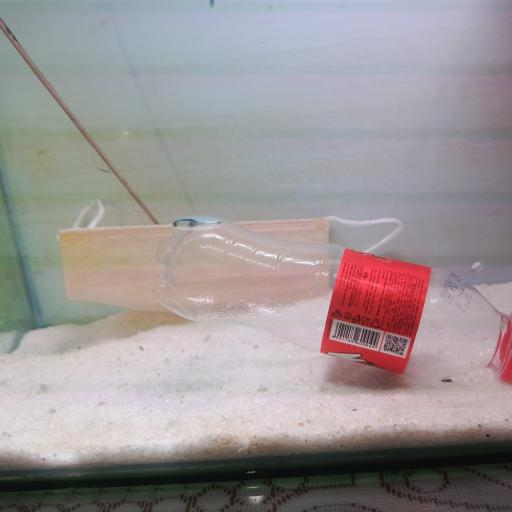mask: (65, 205, 409, 310)
plastic_bottle: (163, 221, 512, 404)
